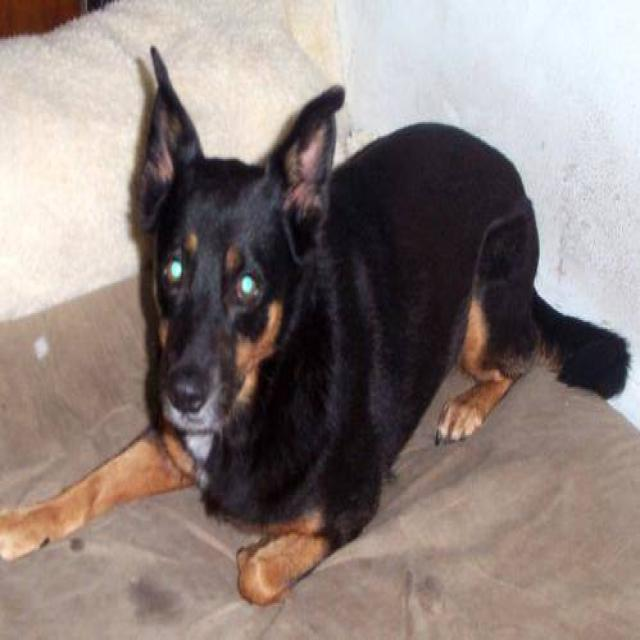dog: (0, 43, 631, 606)
